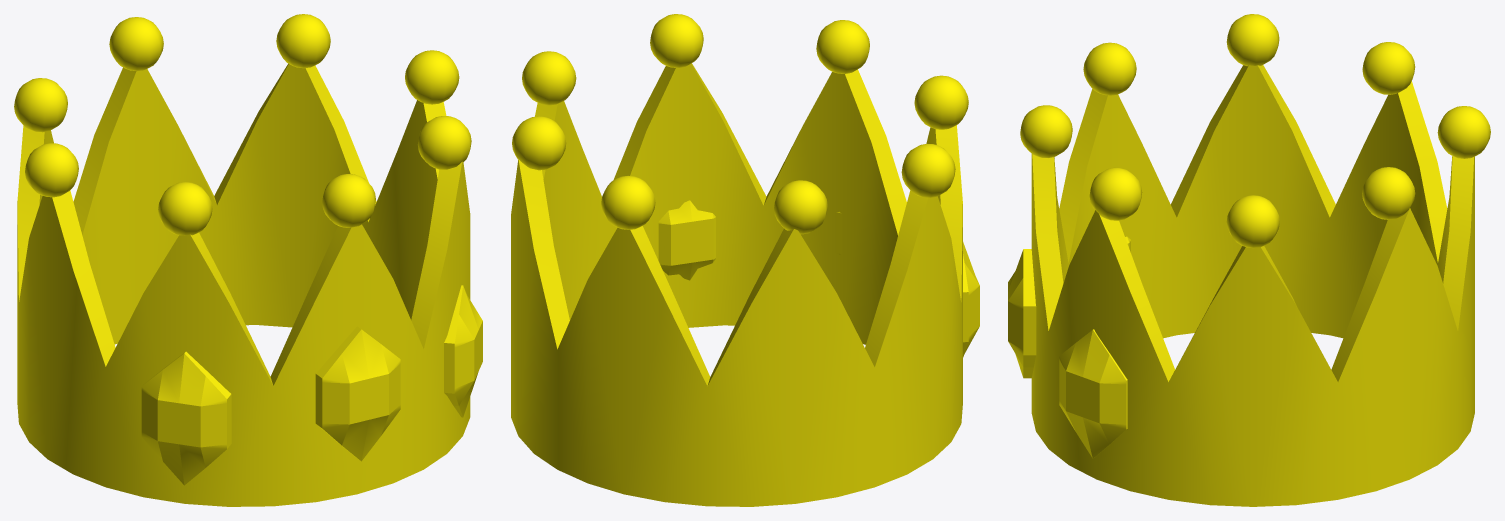
File: crown.obj
The picture shows the model from 3 angles, left to right: view 1: azimuth 30°, elevation 25°; view 2: azimuth 150°, elevation 25°; view 3: azimuth 270°, elevation 25°; orthographic projection. The views are drawn at different scales.
Parts seen in each view (by area): view 1: 円柱; view 2: 円柱; view 3: 円柱.
Part boxes in pixels (x1,y1,x2,y2): 円柱: [14, 14, 482, 506]; 円柱: [511, 14, 979, 506]; 円柱: [1008, 14, 1490, 506].
Size of the model in its own units: 2.17 by 1.52 by 2.18.
Materials: 1 (1 with a texture image).
